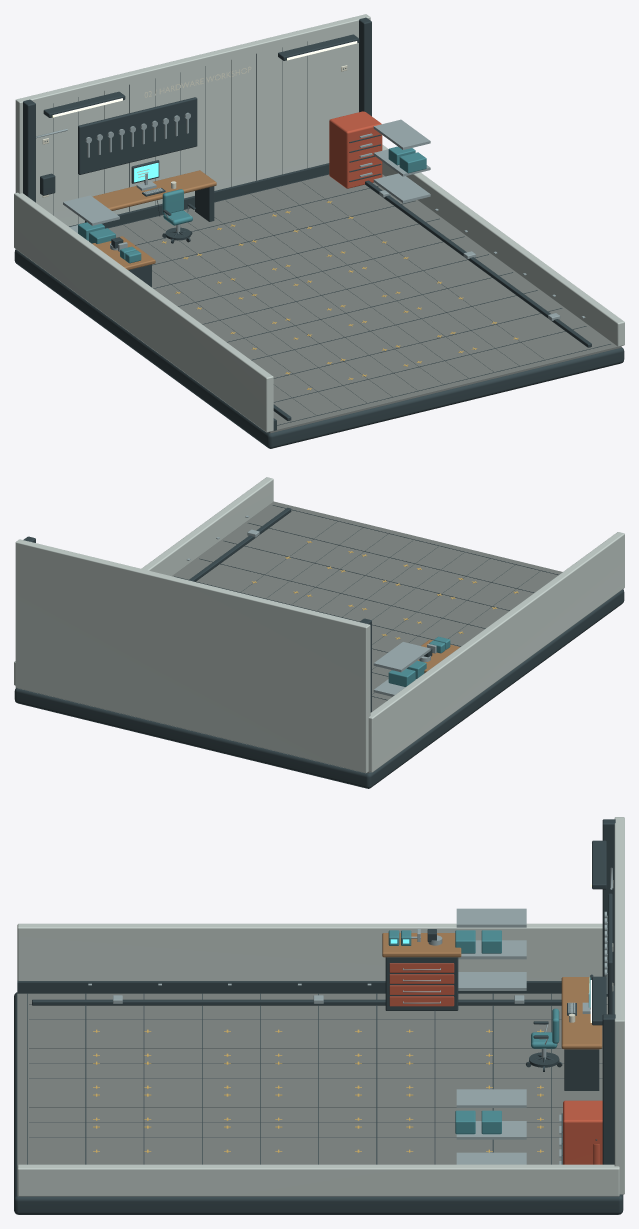
The model's file is workshop.glb.
3 renders of one model, top to bottom at view 1: azimuth 30°, elevation 25°; view 2: azimuth 150°, elevation 25°; view 3: azimuth 270°, elevation 25°, orthographic. The views are drawn at different scales.
Visible parts, largest first — view 1: SM_workshop_01_mineral_floor, SM_workshop_02_painted_plaster, SM_workshop_03_charcoal_steel, SM_workshop_04_brushed_alloy, SM_workshop_09_vermilion, SM_workshop_05_warm_oak, SM_workshop_08_glass, SM_workshop_11_safety_paint; view 2: SM_workshop_02_painted_plaster, SM_workshop_01_mineral_floor, SM_workshop_03_charcoal_steel, SM_workshop_04_brushed_alloy, SM_workshop_08_glass; view 3: SM_workshop_01_mineral_floor, SM_workshop_02_painted_plaster, SM_workshop_03_charcoal_steel, SM_workshop_04_brushed_alloy, SM_workshop_09_vermilion, SM_workshop_05_warm_oak, SM_workshop_08_glass, SM_workshop_11_safety_paint.
Boxes of the visible parts, x1=… form: SM_workshop_01_mineral_floor: x1=108, y1=174, x2=621, y2=433; SM_workshop_02_painted_plaster: x1=14, y1=14, x2=624, y2=432; SM_workshop_03_charcoal_steel: x1=14, y1=17, x2=624, y2=448; SM_workshop_04_brushed_alloy: x1=36, y1=112, x2=585, y2=320; SM_workshop_09_vermilion: x1=329, y1=111, x2=382, y2=188; SM_workshop_05_warm_oak: x1=92, y1=170, x2=216, y2=270; SM_workshop_08_glass: x1=78, y1=146, x2=426, y2=263; SM_workshop_11_safety_paint: x1=162, y1=201, x2=518, y2=390; SM_workshop_02_painted_plaster: x1=14, y1=477, x2=624, y2=773; SM_workshop_01_mineral_floor: x1=172, y1=501, x2=562, y2=773; SM_workshop_03_charcoal_steel: x1=14, y1=505, x2=624, y2=788; SM_workshop_04_brushed_alloy: x1=187, y1=515, x2=436, y2=696; SM_workshop_08_glass: x1=388, y1=636, x2=450, y2=686; SM_workshop_01_mineral_floor: x1=17, y1=993, x2=607, y2=1196; SM_workshop_02_painted_plaster: x1=17, y1=817, x2=624, y2=1196; SM_workshop_03_charcoal_steel: x1=14, y1=819, x2=623, y2=1214; SM_workshop_04_brushed_alloy: x1=88, y1=867, x2=612, y2=1164; SM_workshop_09_vermilion: x1=389, y1=963, x2=602, y2=1164; SM_workshop_05_warm_oak: x1=382, y1=933, x2=602, y2=1049; SM_workshop_08_glass: x1=388, y1=930, x2=559, y2=1134; SM_workshop_11_safety_paint: x1=93, y1=1029, x2=543, y2=1152.
Bounding box in the file's own units: 8.48 × 3.68 × 10.5.
